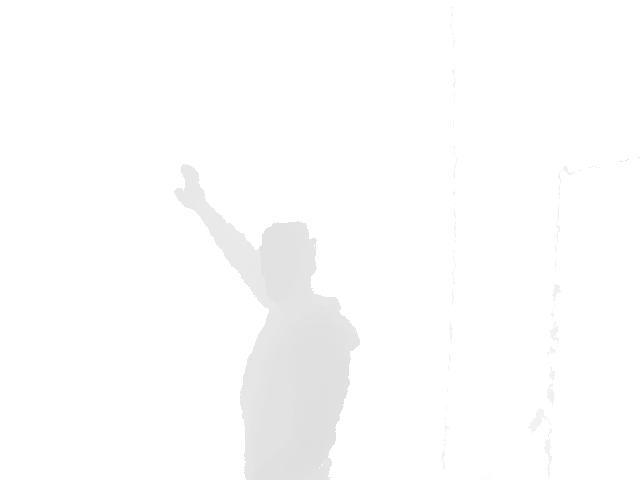hand: (174, 163, 219, 212)
head: (260, 222, 316, 305)
person: (174, 163, 362, 480)
